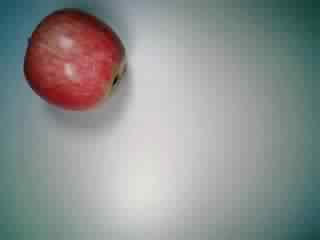apple: (22, 6, 126, 110)
